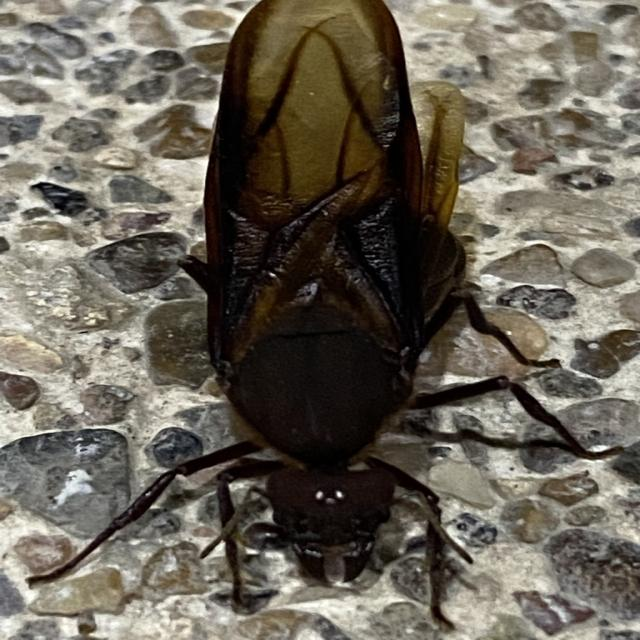Alive-Female-Alate: (23, 0, 625, 631)
